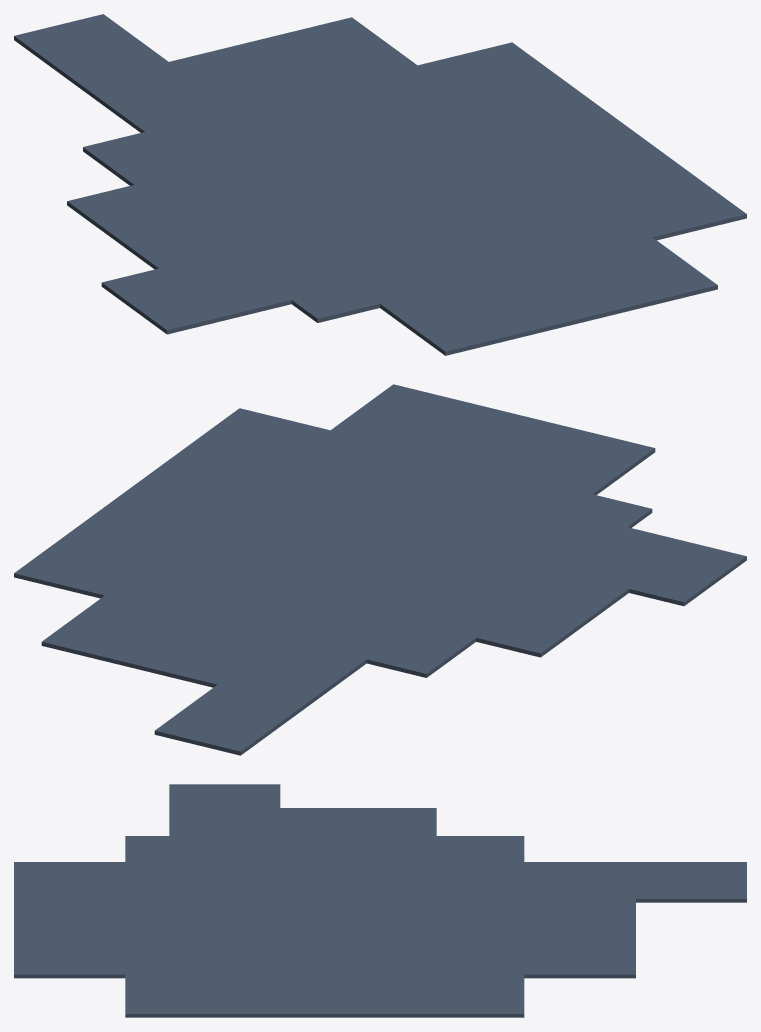
The model's file is floor_geometry.obj.
3 renders of one model, top to bottom at view 1: azimuth 30°, elevation 25°; view 2: azimuth 150°, elevation 25°; view 3: azimuth 270°, elevation 25°, orthographic. The views are drawn at different scales.
Parts seen in each view (by area): view 1: Floor_003_l_chamber_2_kamera_2_himicheskiy_son_floor, Floor_008_l_chamber_2_gruzovoy_tambur_floor, Floor_002_l_chamber_2_gazovaya_floor, Floor_006_l_chamber_2_post_floor, Floor_011_l_chamber_2_personalnyy_shlyuz_floor, Floor_004_l_chamber_2_podhod_k_postu_floor, Floor_001_l_chamber_2_ot_starogo_priemnogo_sektora_floor; view 2: Floor_003_l_chamber_2_kamera_2_himicheskiy_son_floor, Floor_008_l_chamber_2_gruzovoy_tambur_floor, Floor_002_l_chamber_2_gazovaya_floor, Floor_006_l_chamber_2_post_floor, Floor_011_l_chamber_2_personalnyy_shlyuz_floor, Floor_004_l_chamber_2_podhod_k_postu_floor, Floor_001_l_chamber_2_ot_starogo_priemnogo_sektora_floor; view 3: Floor_003_l_chamber_2_kamera_2_himicheskiy_son_floor, Floor_008_l_chamber_2_gruzovoy_tambur_floor, Floor_002_l_chamber_2_gazovaya_floor, Floor_006_l_chamber_2_post_floor, Floor_011_l_chamber_2_personalnyy_shlyuz_floor, Floor_004_l_chamber_2_podhod_k_postu_floor, Floor_001_l_chamber_2_ot_starogo_priemnogo_sektora_floor, Floor_012_l_chamber_2_personalnyy_shlyuz_floor, Floor_009_l_chamber_2_gruzovoy_tambur_floor, Floor_005_l_chamber_2_podhod_k_postu_floor.
Part boxes in pixels (x1=…): Floor_003_l_chamber_2_kamera_2_himicheskiy_son_floor: x1=83, y1=42, x2=746, y2=322; Floor_008_l_chamber_2_gruzovoy_tambur_floor: x1=380, y1=238, x2=714, y2=355; Floor_002_l_chamber_2_gazovaya_floor: x1=67, y1=185, x2=291, y2=320; Floor_006_l_chamber_2_post_floor: x1=79, y1=45, x2=304, y2=132; Floor_011_l_chamber_2_personalnyy_shlyuz_floor: x1=245, y1=18, x2=413, y2=91; Floor_004_l_chamber_2_podhod_k_postu_floor: x1=14, y1=15, x2=165, y2=87; Floor_001_l_chamber_2_ot_starogo_priemnogo_sektora_floor: x1=101, y1=268, x2=224, y2=334; Floor_003_l_chamber_2_kamera_2_himicheskiy_son_floor: x1=14, y1=408, x2=652, y2=677; Floor_008_l_chamber_2_gruzovoy_tambur_floor: x1=334, y1=385, x2=655, y2=494; Floor_002_l_chamber_2_gazovaya_floor: x1=476, y1=527, x2=691, y2=657; Floor_006_l_chamber_2_post_floor: x1=150, y1=622, x2=366, y2=709; Floor_011_l_chamber_2_personalnyy_shlyuz_floor: x1=44, y1=596, x2=206, y2=670; Floor_004_l_chamber_2_podhod_k_postu_floor: x1=157, y1=685, x2=303, y2=755; Floor_001_l_chamber_2_ot_starogo_priemnogo_sektora_floor: x1=629, y1=543, x2=746, y2=606; Floor_003_l_chamber_2_kamera_2_himicheskiy_son_floor: x1=125, y1=836, x2=524, y2=1017; Floor_008_l_chamber_2_gruzovoy_tambur_floor: x1=14, y1=862, x2=125, y2=973; Floor_002_l_chamber_2_gazovaya_floor: x1=169, y1=808, x2=436, y2=835; Floor_006_l_chamber_2_post_floor: x1=524, y1=862, x2=635, y2=927; Floor_011_l_chamber_2_personalnyy_shlyuz_floor: x1=524, y1=930, x2=635, y2=973; Floor_004_l_chamber_2_podhod_k_postu_floor: x1=636, y1=862, x2=746, y2=897; Floor_001_l_chamber_2_ot_starogo_priemnogo_sektora_floor: x1=169, y1=784, x2=280, y2=807; Floor_012_l_chamber_2_personalnyy_shlyuz_floor: x1=524, y1=973, x2=635, y2=978; Floor_009_l_chamber_2_gruzovoy_tambur_floor: x1=14, y1=973, x2=125, y2=978; Floor_005_l_chamber_2_podhod_k_postu_floor: x1=636, y1=897, x2=746, y2=902.
Size of the model in its own units: 27.24 by 0.2 by 36.75.
